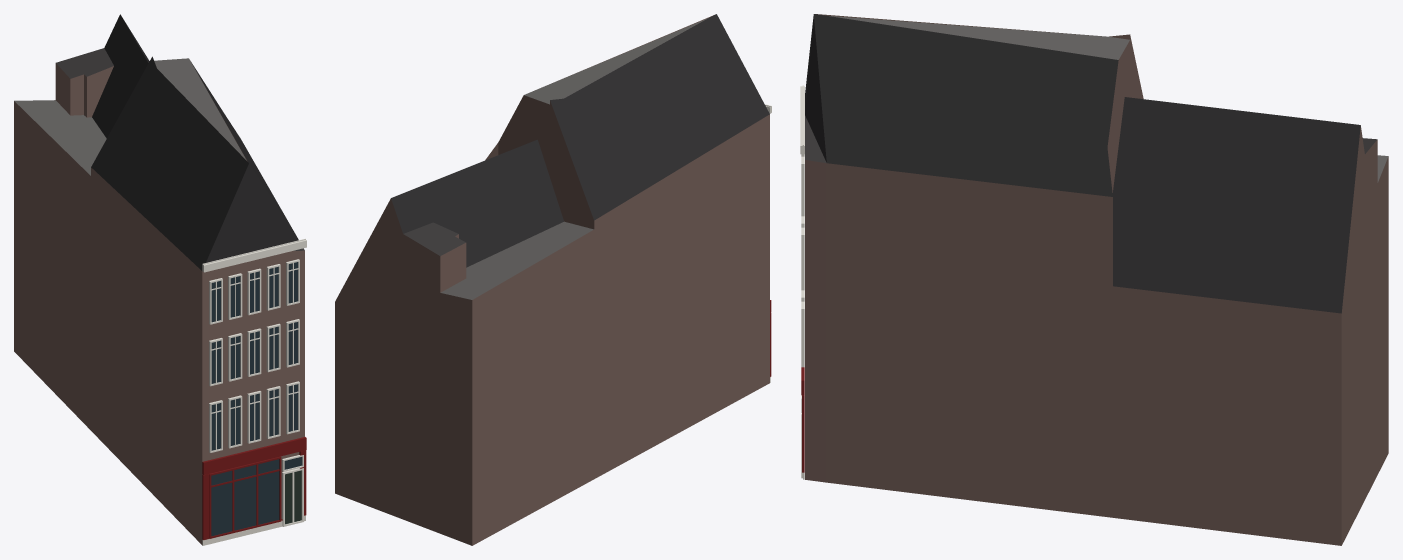
3 views of the same model, side by side, from view 1: azimuth 30°, elevation 25°; view 2: azimuth 150°, elevation 25°; view 3: azimuth 270°, elevation 25° (orthographic). The views are drawn at different scales.
Visible parts, largest first — view 1: spec-0363100012171697; view 2: spec-0363100012171697; view 3: spec-0363100012171697.
Part boxes in pixels (x1=…): spec-0363100012171697: x1=14, y1=14, x2=306, y2=545; spec-0363100012171697: x1=335, y1=14, x2=771, y2=545; spec-0363100012171697: x1=800, y1=14, x2=1388, y2=545.
Bounding box in the file's own units: 11.4 × 18.45 × 22.53.
